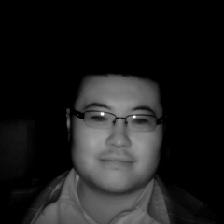normal: (58, 60, 173, 194)
